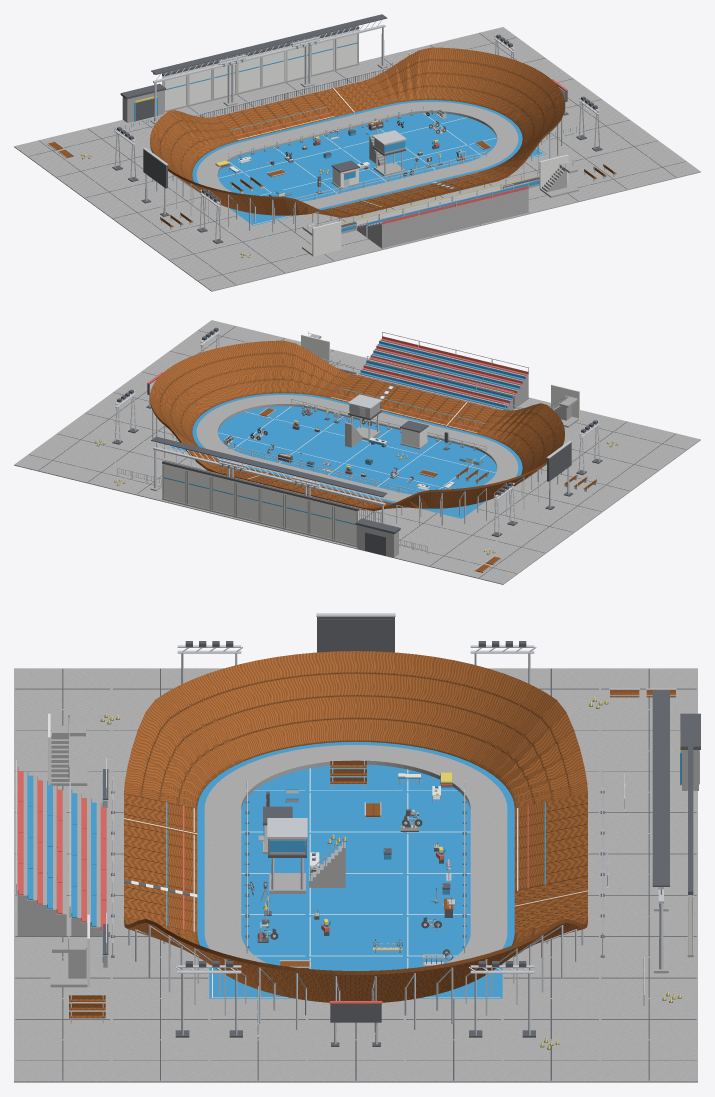
Rendered from velodrome-and-track-cycling-open-velodro-5bcbccca-starter-scene__38031.glb.
The picture shows the model from 3 angles, top to bottom: view 1: azimuth 30°, elevation 25°; view 2: azimuth 150°, elevation 25°; view 3: azimuth 270°, elevation 25°; orthographic projection. The views are drawn at different scales.
Visible parts, largest first — view 1: 071-banked-track-bend-module/banked-track-bend-module-board, 072-banked-track-bend-module/banked-track-bend-module-board, 070-banked-track-transition-module/banked-track-transition-m, 073-banked-track-bend-module/banked-track-bend-module-board, 083-banked-track-bend-module/banked-track-bend-module-board, 084-banked-track-transition-module-mirrored/banked-track-tra, 128-sprinters-and-stayers-line-plate/sprinters-and-stayers-l, 127-sprinters-and-stayers-line-plate/sprinters-and-stayers-l, 000-concourse-floor-module/concourse-floor-module-apron, 009-concourse-floor-module/concourse-floor-module-apron, 001-concourse-floor-module/concourse-floor-module-apron, 010-concourse-floor-module/concourse-floor-module-apron (+90 smaller); view 2: 074-banked-track-bend-module/banked-track-bend-module-board, 073-banked-track-bend-module/banked-track-bend-module-board, 075-banked-track-transition-module-mirrored/banked-track-tra, 072-banked-track-bend-module/banked-track-bend-module-board, 080-banked-track-bend-module/banked-track-bend-module-board, 079-banked-track-transition-module/banked-track-transition-m, 125-sprinters-and-stayers-line-plate/sprinters-and-stayers-l, 061-concourse-floor-module/concourse-floor-module-apron, 069-concourse-floor-module/concourse-floor-module-apron, 068-concourse-floor-module/concourse-floor-module-apron, 124-sprinters-and-stayers-line-plate/sprinters-and-stayers-l, 040-concourse-floor-module/concourse-floor-module-apron (+80 smaller); view 3: 081-banked-track-bend-module/banked-track-bend-module-board, 082-banked-track-bend-module/banked-track-bend-module-board, 080-banked-track-bend-module/banked-track-bend-module-board, 083-banked-track-bend-module/banked-track-bend-module-board, 079-banked-track-transition-module/banked-track-transition-m, 084-banked-track-transition-module-mirrored/banked-track-tra, 019-concourse-floor-module/concourse-floor-module-apron, 049-concourse-floor-module/concourse-floor-module-apron, 009-concourse-floor-module/concourse-floor-module-apron, 029-concourse-floor-module/concourse-floor-module-apron, 069-concourse-floor-module/concourse-floor-module-apron, 059-concourse-floor-module/concourse-floor-module-apron (+91 smaller).
Boxes of the visible parts, x1,y1,x2,y2 form: 071-banked-track-bend-module/banked-track-bend-module-board: [431, 47, 497, 104]; 072-banked-track-bend-module/banked-track-bend-module-board: [477, 55, 546, 119]; 070-banked-track-transition-module/banked-track-transition-m: [364, 47, 430, 104]; 073-banked-track-bend-module/banked-track-bend-module-board: [510, 76, 564, 138]; 083-banked-track-bend-module/banked-track-bend-module-board: [150, 112, 204, 174]; 084-banked-track-transition-module-mirrored/banked-track-tra: [168, 110, 237, 154]; 128-sprinters-and-stayers-line-plate/sprinters-and-stayers-l: [217, 104, 286, 140]; 127-sprinters-and-stayers-line-plate/sprinters-and-stayers-l: [266, 92, 335, 128]; 000-concourse-floor-module/concourse-floor-module-apron: [183, 258, 260, 291]; 009-concourse-floor-module/concourse-floor-module-apron: [624, 151, 700, 184]; 001-concourse-floor-module/concourse-floor-module-apron: [233, 246, 309, 279]; 010-concourse-floor-module/concourse-floor-module-apron: [155, 238, 231, 270]; 074-banked-track-bend-module/banked-track-bend-module-board: [217, 340, 283, 398]; 073-banked-track-bend-module/banked-track-bend-module-board: [168, 348, 237, 412]; 075-banked-track-transition-module-mirrored/banked-track-tra: [284, 340, 350, 398]; 072-banked-track-bend-module/banked-track-bend-module-board: [150, 369, 204, 431]; 080-banked-track-bend-module/banked-track-bend-module-board: [510, 405, 564, 467]; 079-banked-track-transition-module/banked-track-transition-m: [477, 403, 546, 448]; 125-sprinters-and-stayers-line-plate/sprinters-and-stayers-l: [380, 385, 448, 421]; 061-concourse-floor-module/concourse-floor-module-apron: [405, 539, 482, 572]; 069-concourse-floor-module/concourse-floor-module-apron: [14, 444, 90, 477]; 068-concourse-floor-module/concourse-floor-module-apron: [63, 456, 139, 489]; 124-sprinters-and-stayers-line-plate/sprinters-and-stayers-l: [428, 397, 497, 433]; 040-concourse-floor-module/concourse-floor-module-apron: [511, 510, 587, 543]; 081-banked-track-bend-module/banked-track-bend-module-board: [240, 651, 355, 750]; 082-banked-track-bend-module/banked-track-bend-module-board: [356, 651, 471, 750]; 080-banked-track-bend-module/banked-track-bend-module-board: [155, 664, 276, 774]; 083-banked-track-bend-module/banked-track-bend-module-board: [435, 664, 556, 775]; 079-banked-track-transition-module/banked-track-transition-m: [124, 700, 218, 808]; 084-banked-track-transition-module-mirrored/banked-track-tra: [493, 700, 587, 808]; 019-concourse-floor-module/concourse-floor-module-apron: [111, 1040, 209, 1082]; 049-concourse-floor-module/concourse-floor-module-apron: [404, 1040, 502, 1082]; 009-concourse-floor-module/concourse-floor-module-apron: [14, 1040, 111, 1082]; 029-concourse-floor-module/concourse-floor-module-apron: [209, 1040, 306, 1082]; 069-concourse-floor-module/concourse-floor-module-apron: [600, 1040, 697, 1082]; 059-concourse-floor-module/concourse-floor-module-apron: [502, 1040, 600, 1082].
Size of the model in its own units: 80 by 8.24 by 56.25.
Materials: 8 (2 with a texture image).
